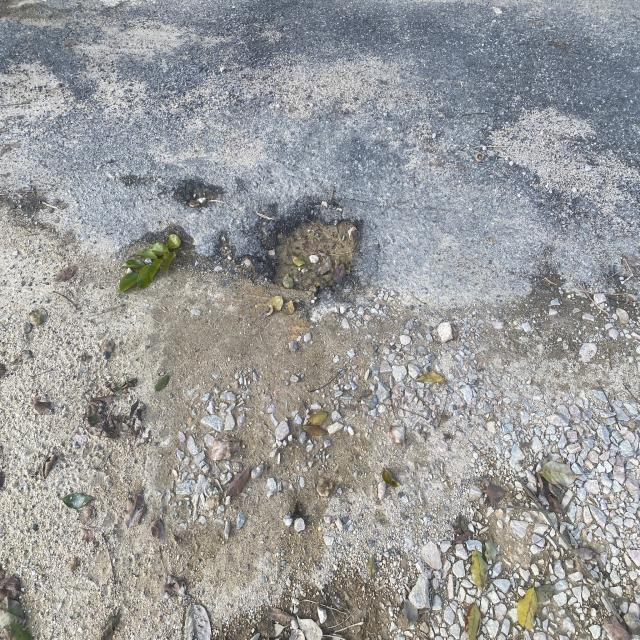pothole: (24, 150, 468, 354)
